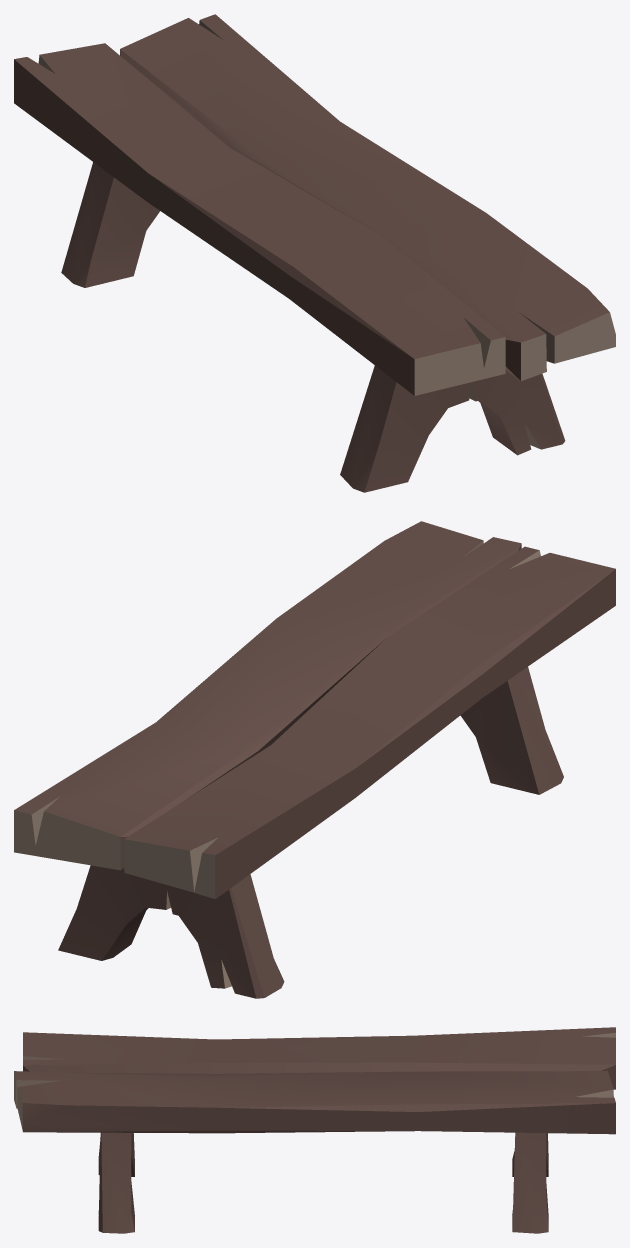
Rendered from bench.glb.
3 renders of one model, top to bottom at view 1: azimuth 30°, elevation 25°; view 2: azimuth 150°, elevation 25°; view 3: azimuth 270°, elevation 25°, orthographic. The views are drawn at different scales.
Visible parts, largest first — view 1: bench; view 2: bench; view 3: bench.
Boxes of the visible parts, x1,y1,x2,y2 form: bench: (14,14,615,492); bench: (14,521,615,998); bench: (14,1027,615,1233).
Bounding box in the file's own units: 0.576 × 0.4661 × 1.93.
Materials: 1 (1 with a texture image).
